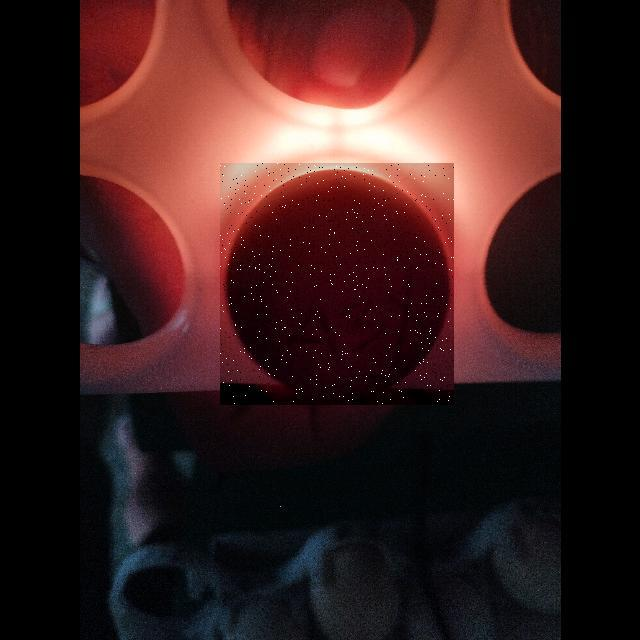Fertile: (220, 163, 454, 405)
